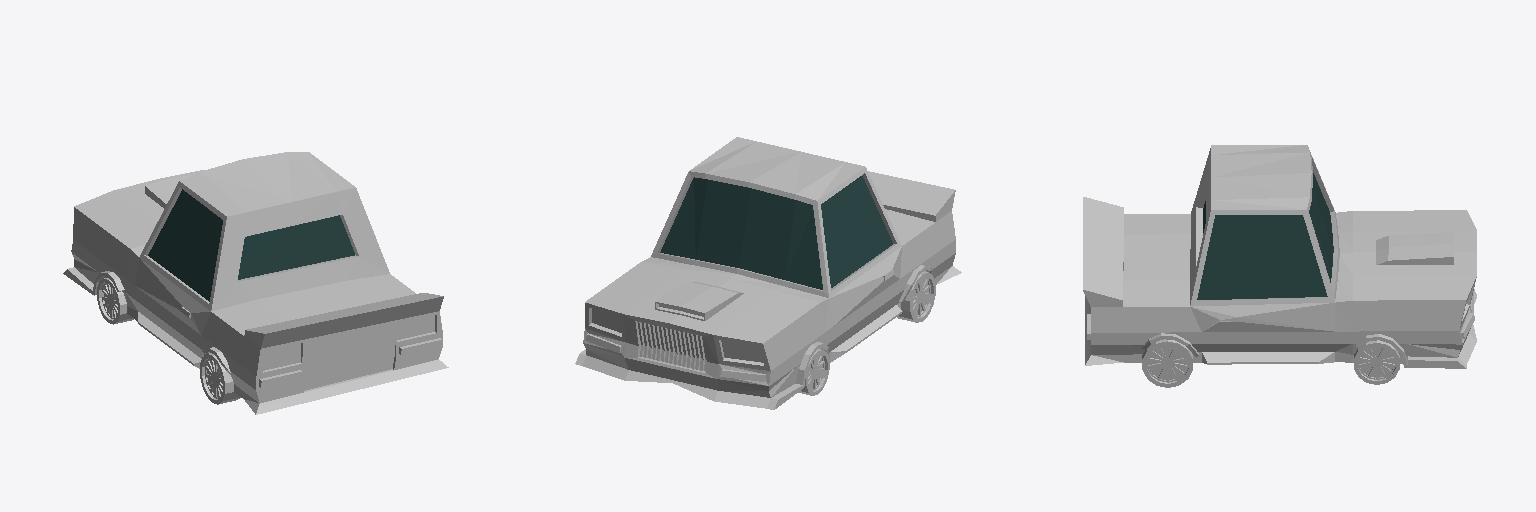
Rendered from car.obj.
The picture shows the model from 3 angles: view 1: azimuth 30°, elevation 25°; view 2: azimuth 150°, elevation 25°; view 3: azimuth 270°, elevation 25°; orthographic projection.
Visible parts, largest first — view 1: body, body_1, backlight, wheel.1, wheel1.1; view 2: body, lattice.1, wheel.1, headlight_2, wheel1.1; view 3: body, wheel.1, wheel1.1.
Boxes of the visible parts, x1=… form: body: x1=63, y1=152, x2=448, y2=414; body_1: x1=256, y1=260, x2=345, y2=299; backlight: x1=263, y1=315, x2=434, y2=370; wheel.1: x1=200, y1=353, x2=240, y2=404; wheel1.1: x1=97, y1=278, x2=133, y2=324; body: x1=575, y1=137, x2=961, y2=409; lattice.1: x1=637, y1=321, x2=706, y2=371; wheel.1: x1=897, y1=271, x2=935, y2=322; headlight_2: x1=592, y1=309, x2=763, y2=362; wheel1.1: x1=798, y1=349, x2=829, y2=395; body: x1=1083, y1=145, x2=1476, y2=368; wheel.1: x1=1142, y1=339, x2=1192, y2=387; wheel1.1: x1=1354, y1=340, x2=1399, y2=384.
Bounding box in the file's own units: 2.07 × 1.68 × 3.56.